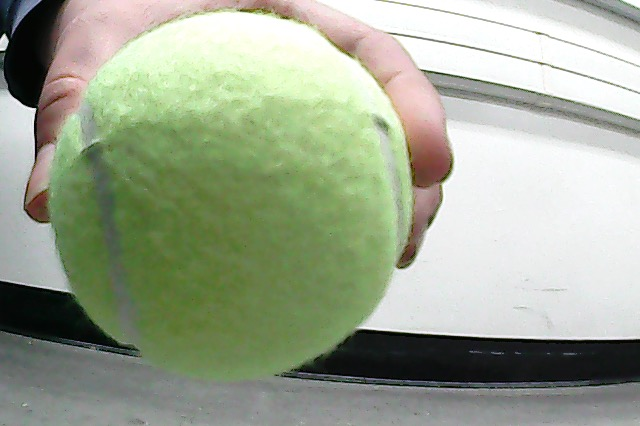ball: (45, 11, 419, 386)
